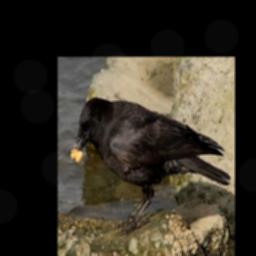Crow: (71, 95, 230, 235)
